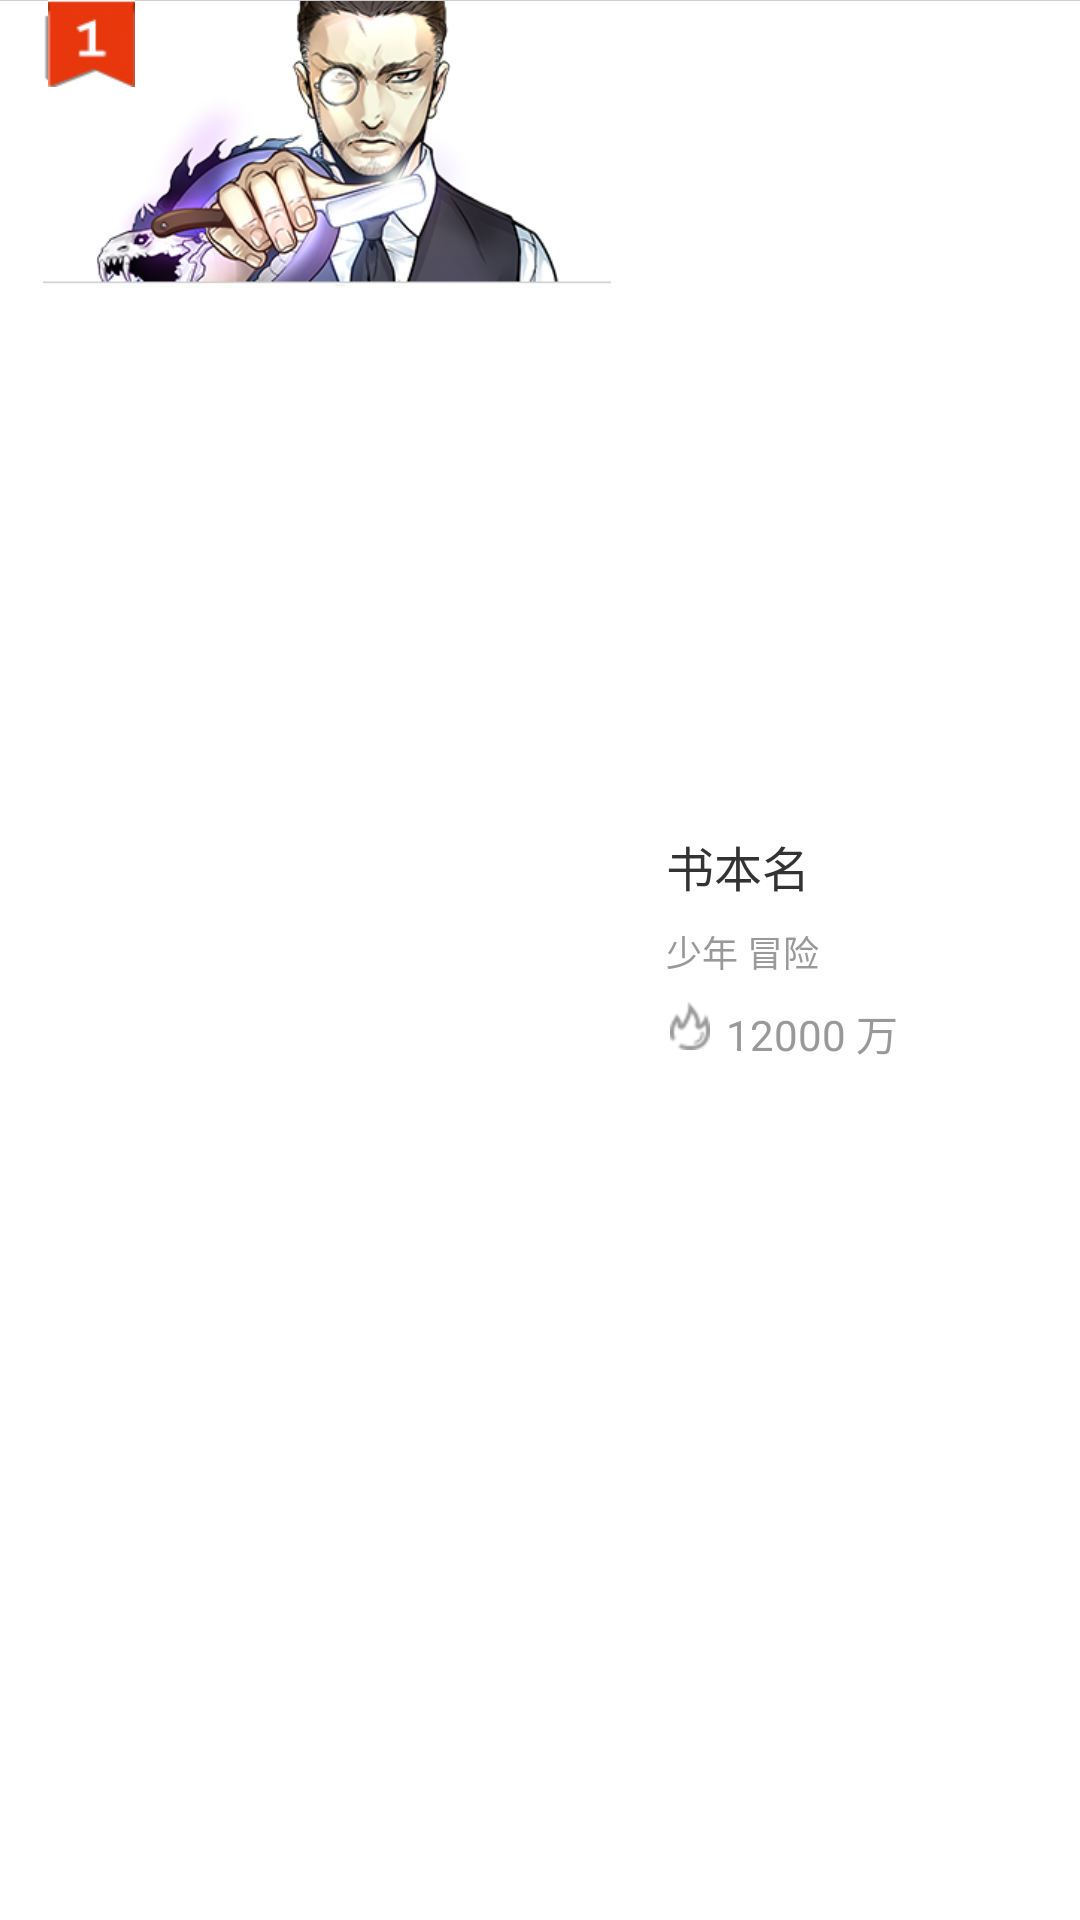

Point at icon controls on the screen. Image size 1080×1920, points as [x,y].
smail fire: [690,1026]
